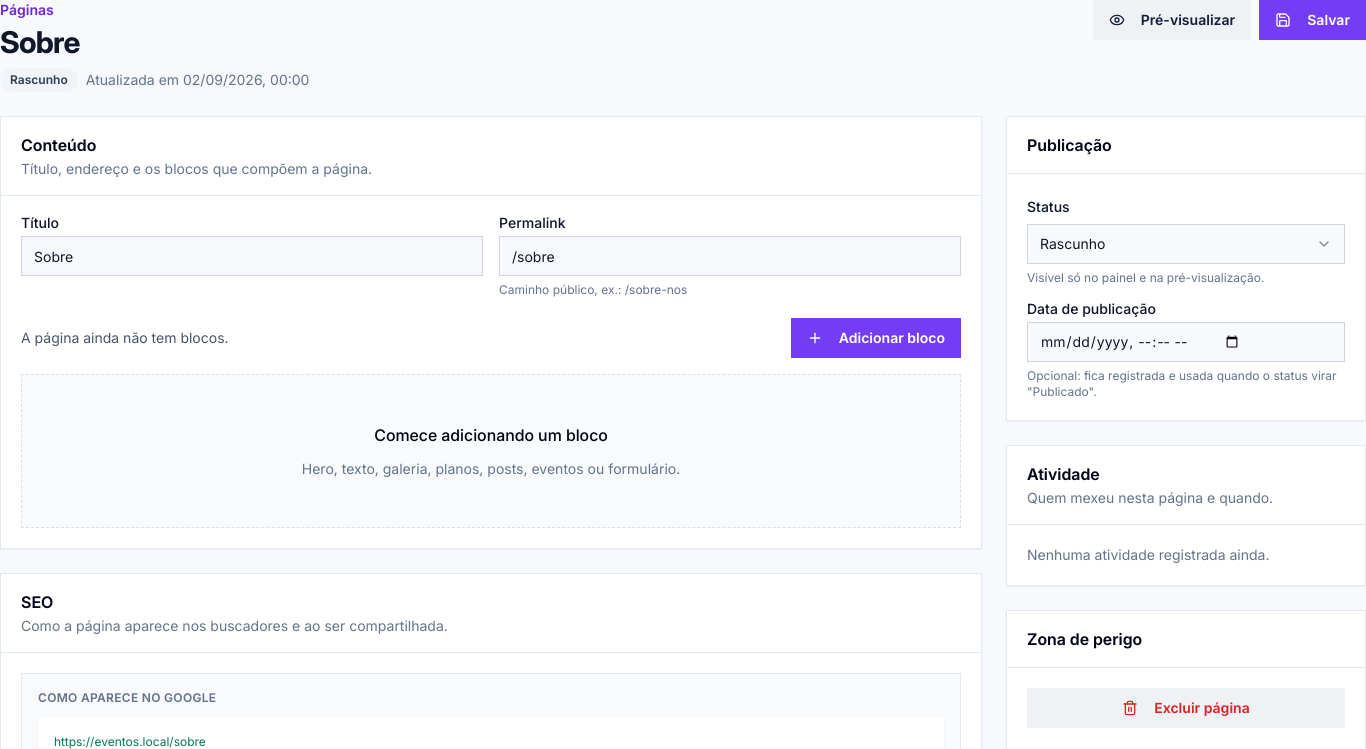
Test: PageEditor › tells the person when the permalink is already taken by another page
Click the 2nd button named "salvar" at (1313, 20), box [1259,0,1365,40]
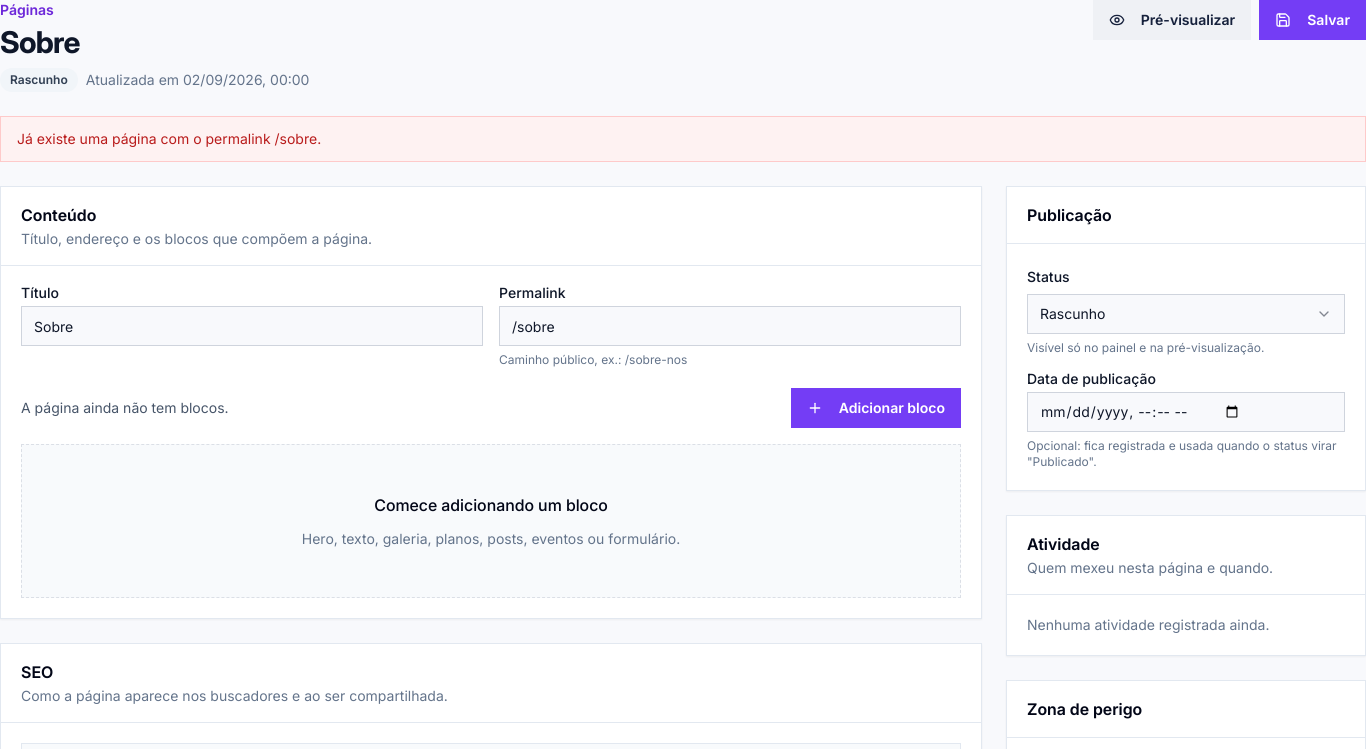
Check: the text "Já existe uma página com o permalink /sobre." is shown, box [0,116,1365,162]
